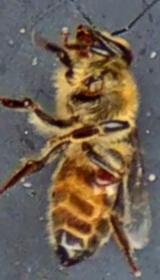varroa_mite: (89, 152, 125, 202)
